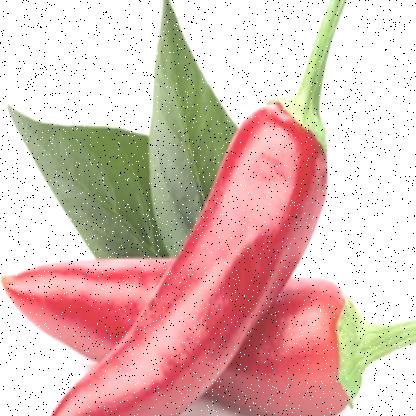chili: (5, 23, 400, 416)
